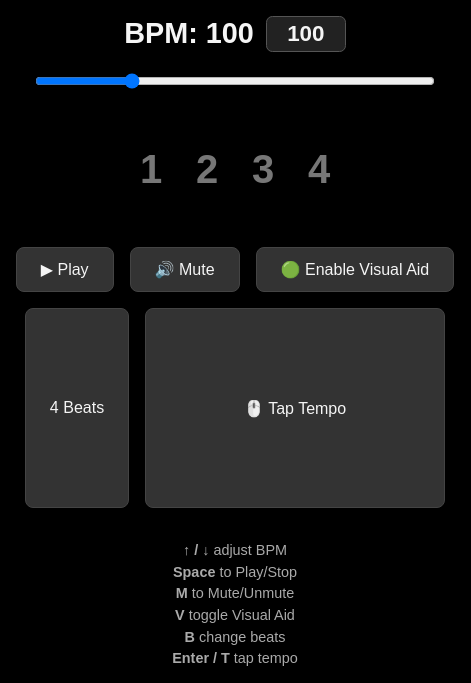
Test case: App › cycles through beat options
The width and height of the screenshot is (471, 683).
Click the button "4 Beats".
click(77, 408)  # box [25,308,129,508]
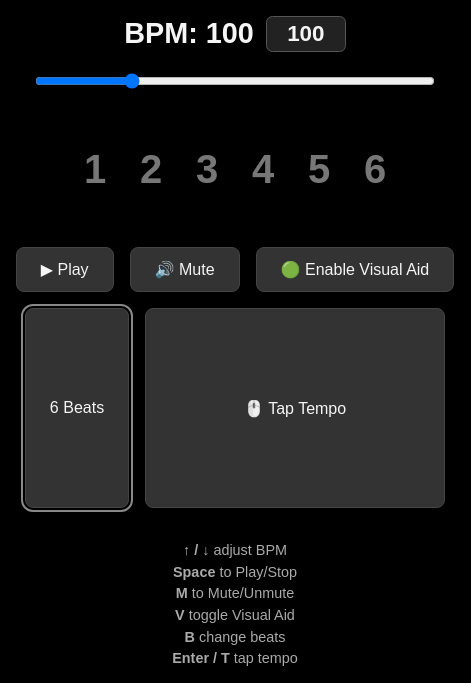
expect the button "6 Beats" is shown: met
Click the button "6 Beats".
click(77, 408)  # box [25,308,129,508]
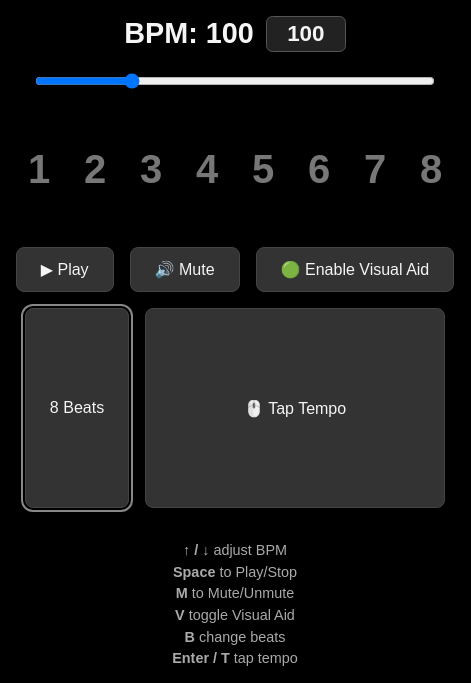
expect the button "8 Beats" is shown: met
Click the button "8 Beats".
click(77, 408)  # box [25,308,129,508]
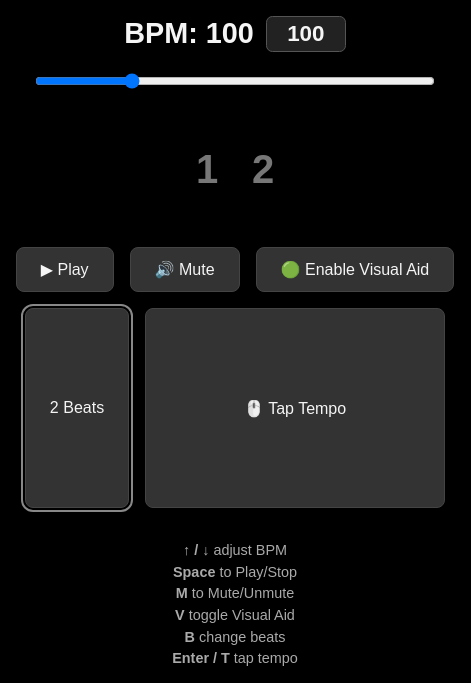
expect the button "2 Beats" is shown: met, box [25,308,129,508]
